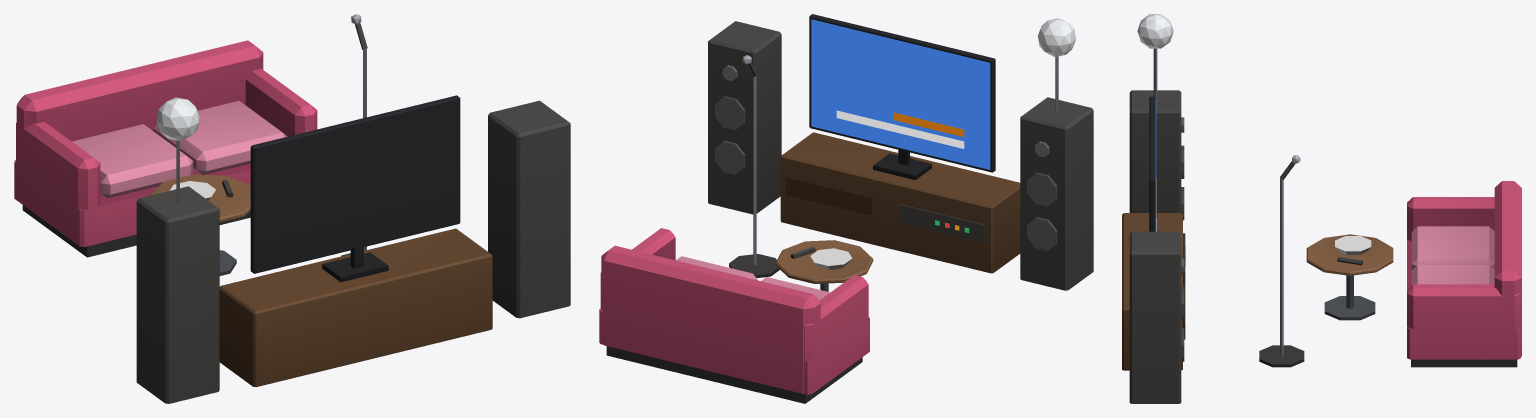
Rendered from set_karaoke_01.glb.
The picture shows the model from 3 angles, left to right: view 1: azimuth 30°, elevation 25°; view 2: azimuth 150°, elevation 25°; view 3: azimuth 270°, elevation 25°; orthographic projection. The views are drawn at different scales.
Visible parts, largest first — view 1: set_karaoke_01_mesh; view 2: set_karaoke_01_mesh, set_karaoke_01_screen; view 3: set_karaoke_01_mesh.
Part boxes in pixels (box(x1,y1,x2,y2)): set_karaoke_01_mesh: box(14, 14, 570, 403); set_karaoke_01_mesh: box(599, 14, 1093, 403); set_karaoke_01_screen: box(811, 19, 990, 169); set_karaoke_01_mesh: box(1122, 14, 1521, 403).
Bounding box in the file's own units: 2.54 × 1.72 × 2.63.
Materials: 2 (2 with a texture image).
